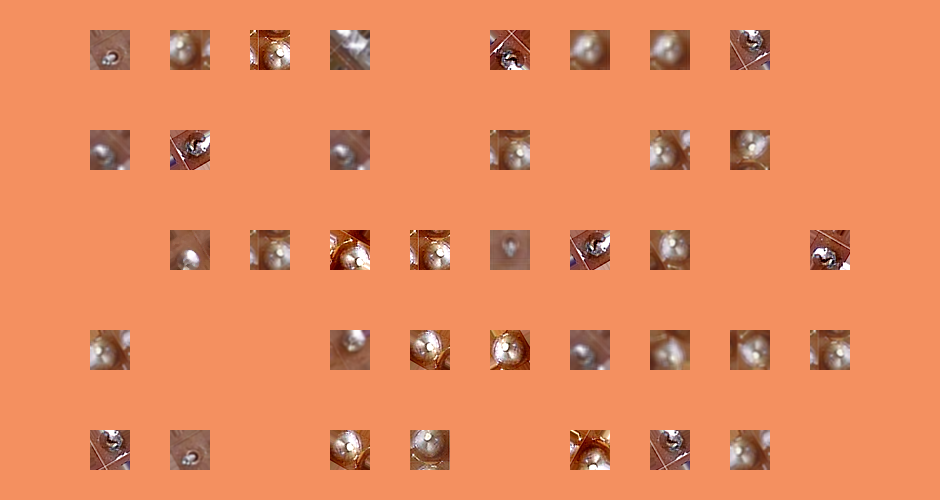Soldas_ausente: (90, 30, 130, 70), (490, 230, 530, 270), (170, 430, 210, 470)
Soldas_boas: (170, 230, 210, 270), (330, 330, 370, 370)
Soldas_excesso: (170, 30, 210, 70), (250, 30, 290, 70), (570, 30, 610, 70), (650, 30, 690, 70), (490, 130, 530, 170), (650, 130, 690, 170), (730, 130, 770, 170), (250, 230, 290, 270), (330, 230, 370, 270), (410, 230, 450, 270), (650, 230, 690, 270), (90, 330, 130, 370), (410, 330, 450, 370), (490, 330, 530, 370), (650, 330, 690, 370), (730, 330, 770, 370), (810, 330, 850, 370), (330, 430, 370, 470), (410, 430, 450, 470), (570, 430, 610, 470), (730, 430, 770, 470)
Soldas_ponte: (330, 30, 370, 70)
Soldas_pouca: (490, 30, 530, 70), (730, 30, 770, 70), (90, 130, 130, 170), (170, 130, 210, 170), (330, 130, 370, 170), (570, 230, 610, 270), (810, 230, 850, 270), (570, 330, 610, 370), (90, 430, 130, 470), (650, 430, 690, 470)
